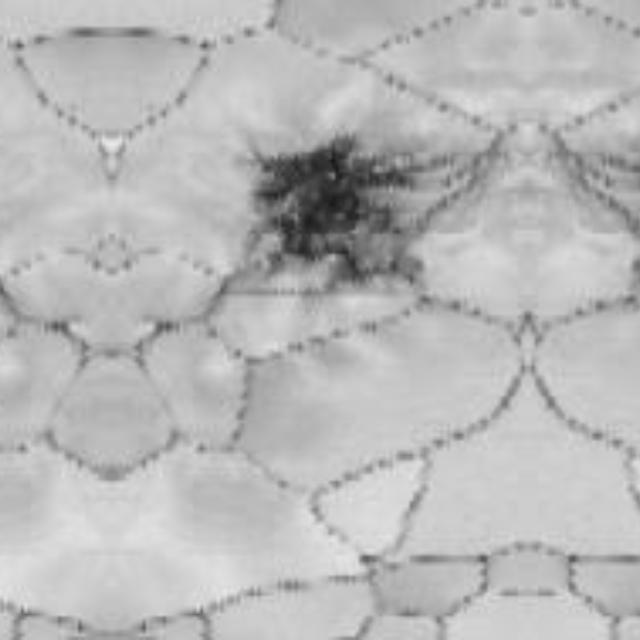good_void: (239, 129, 429, 299)
